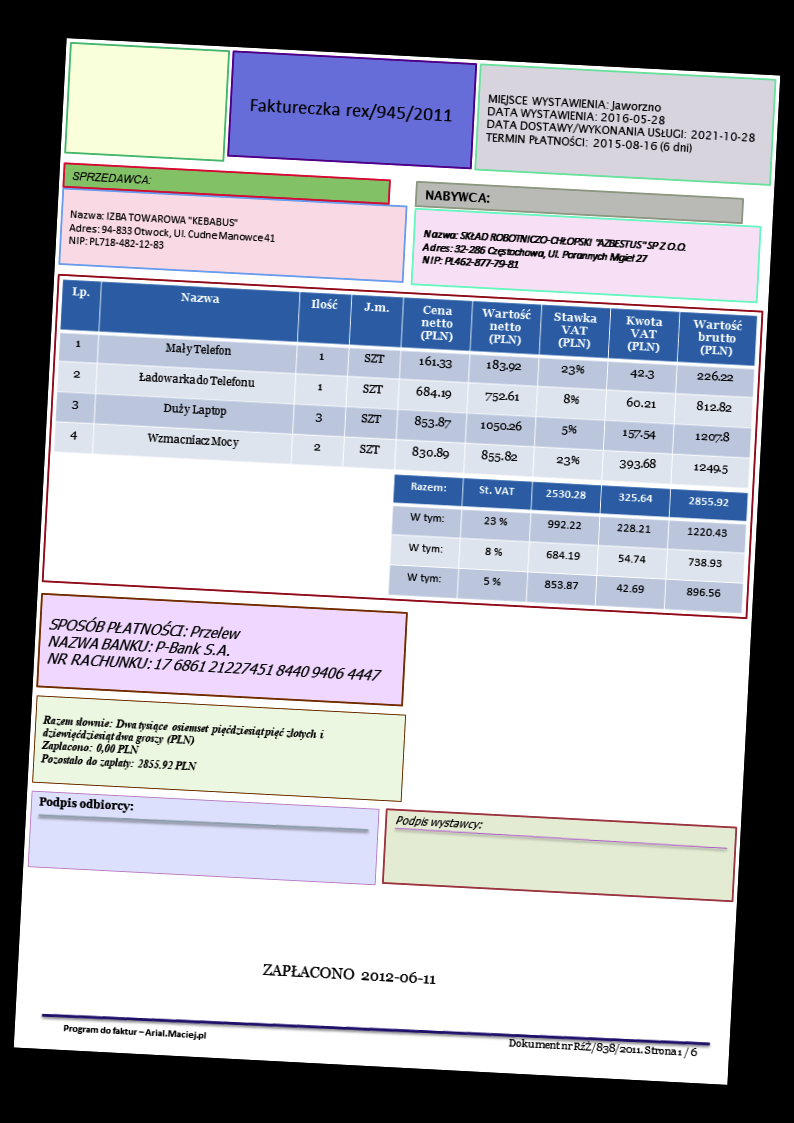Table: (52, 278, 758, 490), (387, 473, 749, 615)
TextBox: (45, 615, 384, 686), (38, 712, 326, 781), (483, 91, 759, 160), (418, 226, 688, 281), (65, 206, 278, 257), (245, 94, 453, 128), (506, 1035, 700, 1063), (258, 961, 438, 988), (60, 1021, 208, 1041), (36, 794, 137, 815), (393, 812, 483, 833), (69, 167, 153, 188), (422, 186, 491, 206)
